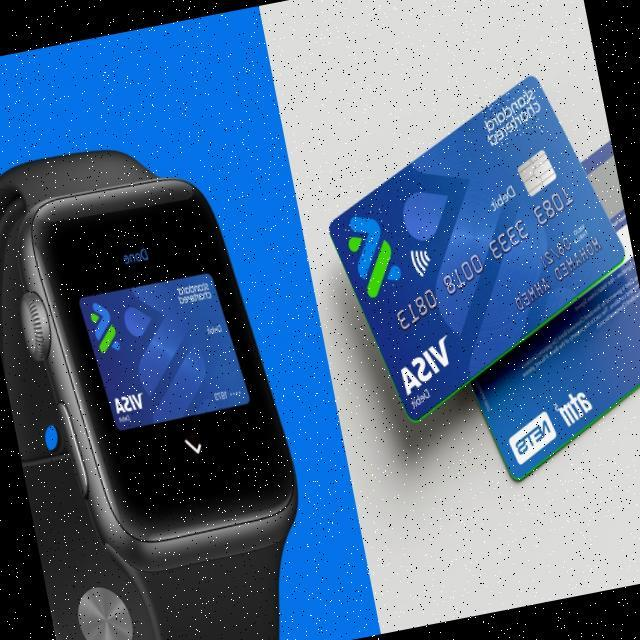Standard Chartered: (342, 207, 406, 302), (479, 86, 545, 148), (88, 298, 121, 354)
